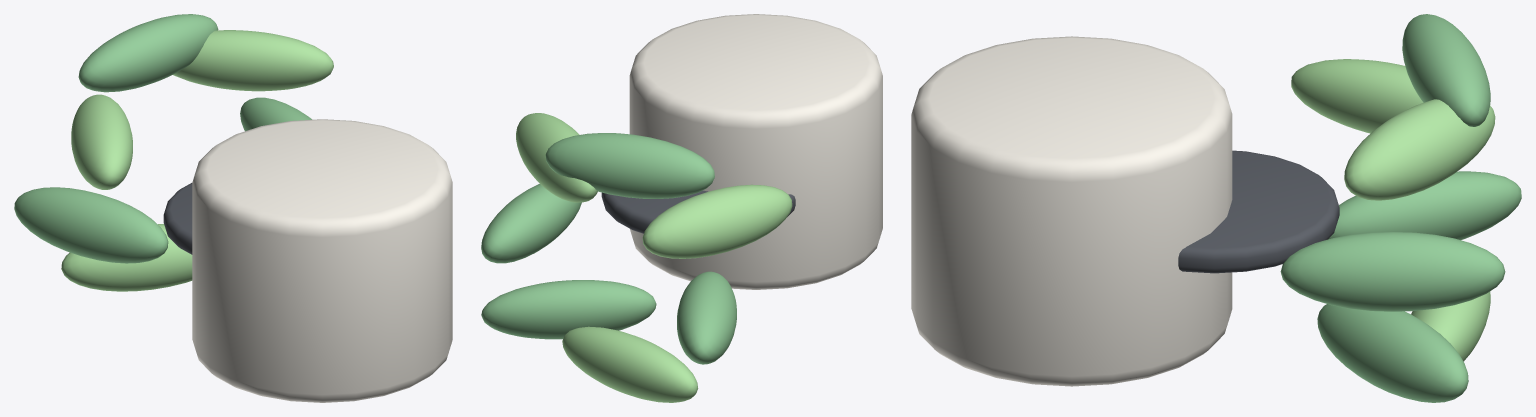
File: plant.glb
3 views of the same model, side by side, from view 1: azimuth 30°, elevation 25°; view 2: azimuth 150°, elevation 25°; view 3: azimuth 270°, elevation 25° (orthographic). The views are drawn at different scales.
Parts seen in each view (by area): view 1: pot, leaf_4, leaf_1, leaf_2, leaf_3, leaf_5, soil, leaf_0; view 2: pot, leaf_2, leaf_6, leaf_3, leaf_5, leaf_0, leaf_4, leaf_1, soil; view 3: pot, leaf_0, soil, leaf_6, leaf_1, leaf_4, leaf_3, leaf_2, leaf_5.
Part boxes in pixels (bbox=[...]): pot: bbox=[192, 119, 452, 402]; leaf_4: bbox=[14, 187, 168, 263]; leaf_1: bbox=[173, 30, 333, 91]; leaf_2: bbox=[78, 14, 218, 92]; leaf_3: bbox=[71, 94, 132, 189]; leaf_5: bbox=[61, 223, 192, 291]; soil: bbox=[163, 183, 192, 254]; leaf_0: bbox=[240, 97, 311, 131]; pot: bbox=[629, 14, 882, 289]; leaf_2: bbox=[545, 133, 714, 198]; leaf_6: bbox=[481, 280, 656, 339]; leaf_3: bbox=[642, 184, 792, 258]; leaf_5: bbox=[562, 326, 698, 402]; leaf_0: bbox=[481, 184, 581, 263]; leaf_4: bbox=[677, 271, 736, 364]; leaf_1: bbox=[516, 113, 597, 202]; soil: bbox=[601, 190, 795, 233]; pot: bbox=[911, 36, 1232, 386]; leaf_0: bbox=[1280, 232, 1505, 311]; soil: bbox=[1178, 150, 1339, 273]; leaf_6: bbox=[1317, 304, 1468, 402]; leaf_1: bbox=[1344, 99, 1495, 200]; leaf_4: bbox=[1328, 171, 1521, 240]; leaf_3: bbox=[1291, 59, 1423, 133]; leaf_2: bbox=[1402, 14, 1490, 126]; leaf_5: bbox=[1411, 291, 1490, 361].
Bounding box in the file's own units: 0.4124 × 0.3991 × 0.6842.
